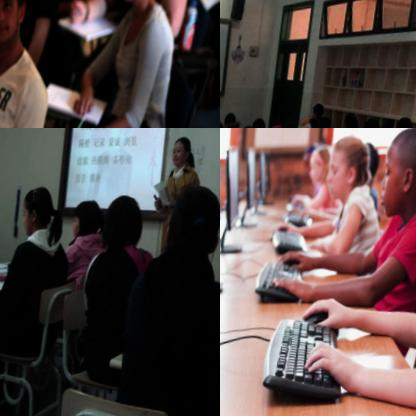head: (157, 183, 220, 269), (371, 128, 416, 236), (321, 136, 377, 207), (98, 191, 146, 258), (15, 182, 57, 241), (67, 197, 104, 247), (0, 0, 29, 52), (303, 144, 334, 190), (165, 137, 194, 173), (309, 103, 325, 128), (339, 112, 357, 128), (273, 110, 288, 128), (221, 110, 235, 128), (311, 120, 331, 128), (391, 120, 410, 128), (248, 119, 264, 128), (360, 121, 377, 128)
